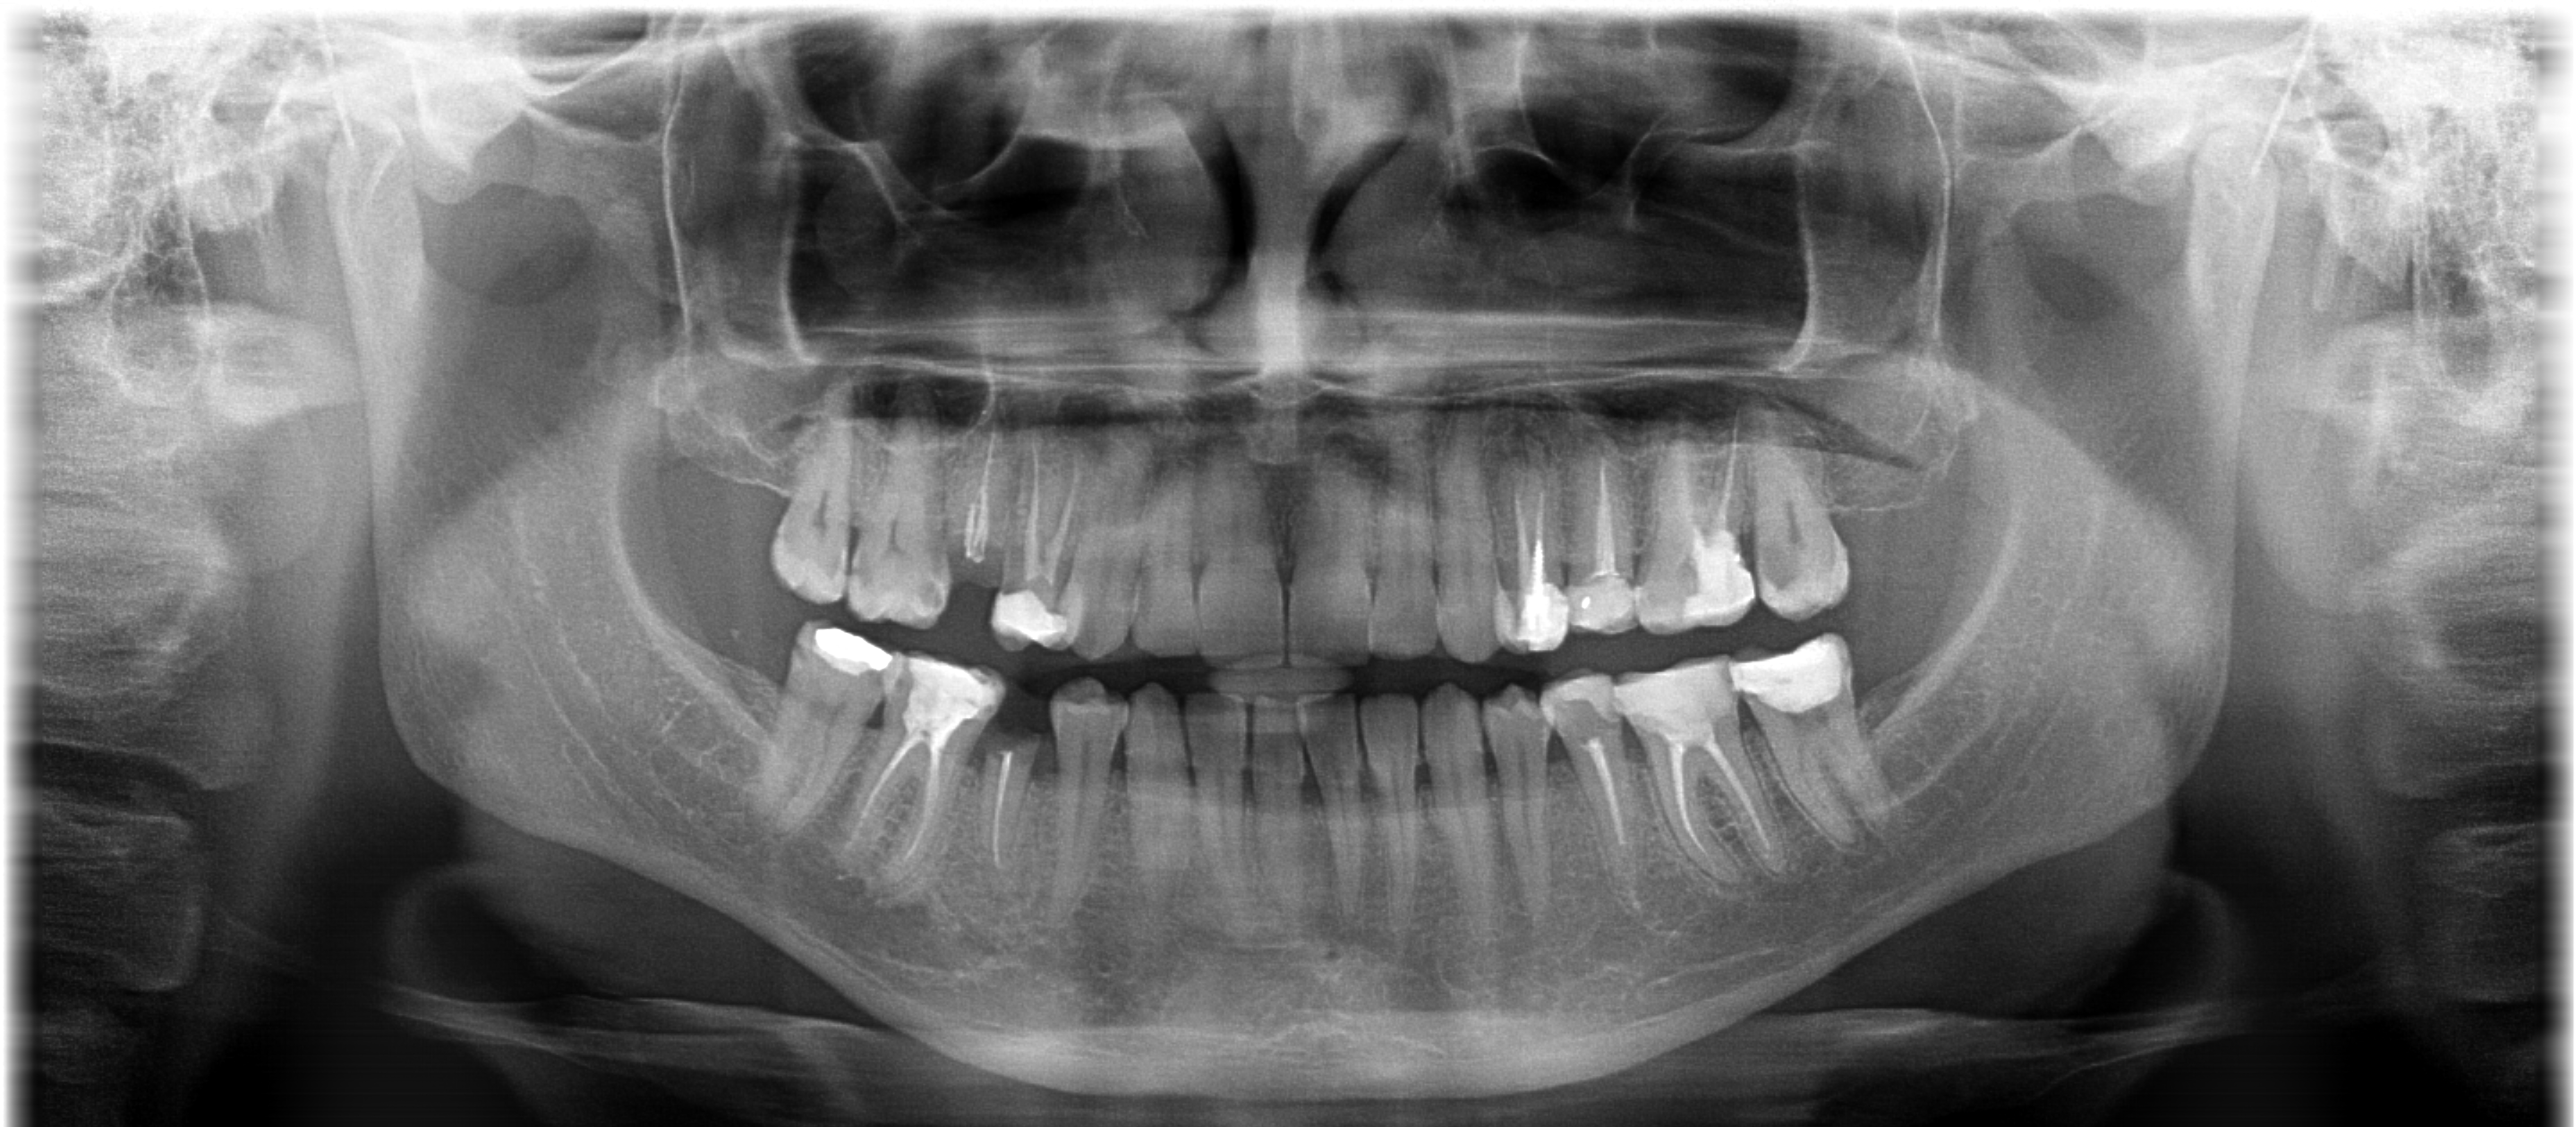enanismo_denticular: (966, 706, 1056, 928), (943, 402, 1032, 624)
tratamiento_conducto: (836, 628, 1022, 908), (1608, 628, 1792, 908), (1539, 642, 1672, 923), (1623, 402, 1768, 644), (982, 424, 1102, 670), (1470, 427, 1590, 674), (1543, 424, 1663, 670)
